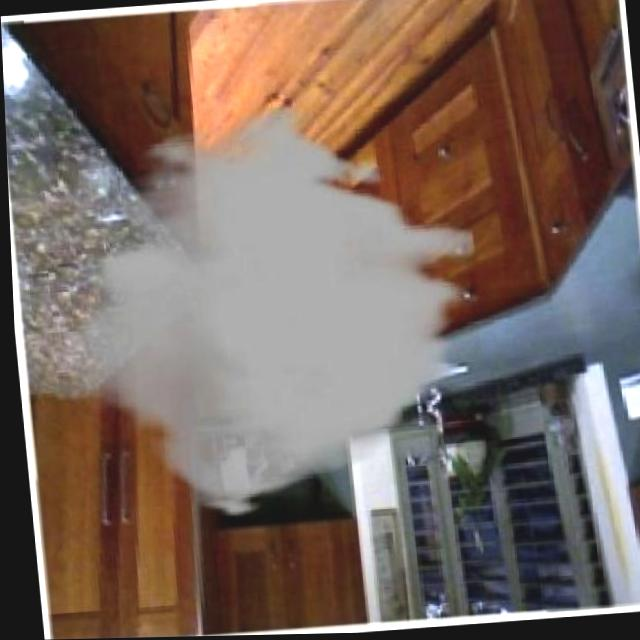no_helmet: (36, 91, 489, 536)
